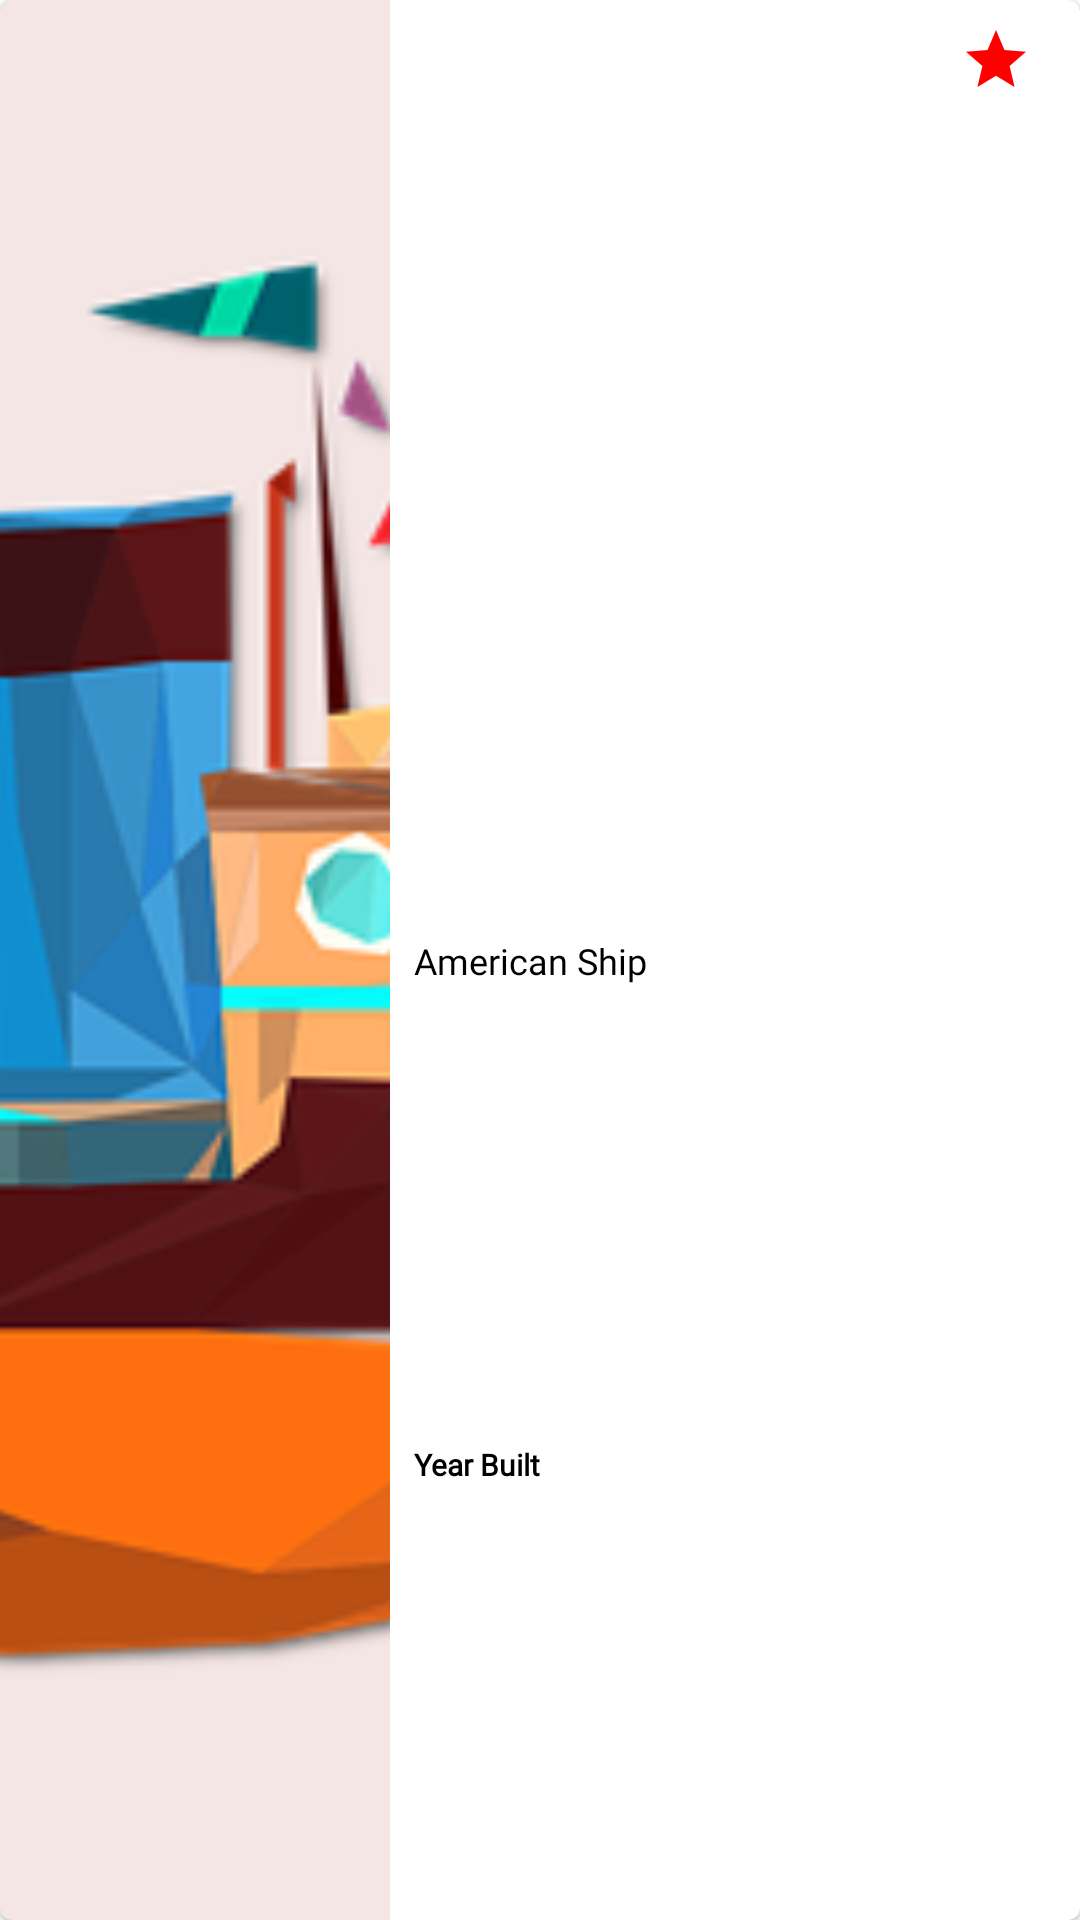

Named icons in this screenshot (1080 × 1920) and their centers, (x,y):
star: (996,58)
